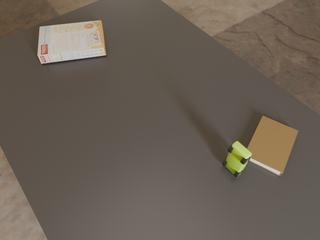book: (247, 116, 298, 176)
box: (38, 21, 106, 63)
toy_car: (222, 141, 252, 177)
